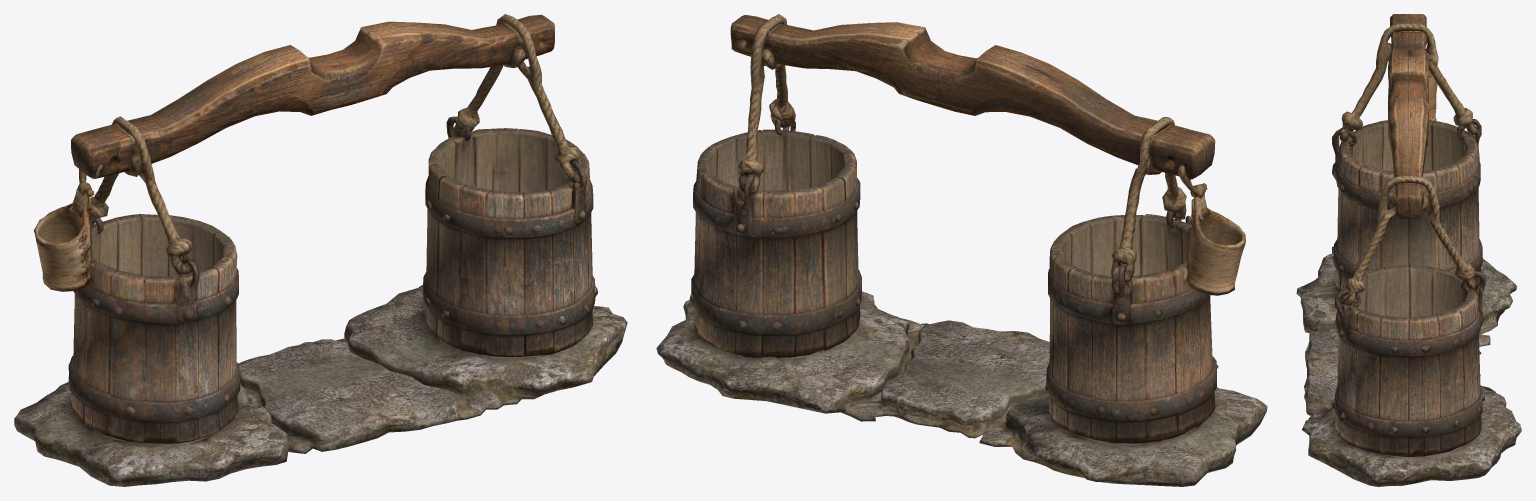
Rendered from cw_water_yoke.glb.
3 views of the same model, side by side, from view 1: azimuth 30°, elevation 25°; view 2: azimuth 150°, elevation 25°; view 3: azimuth 270°, elevation 25° (orthographic). The views are drawn at different scales.
Parts seen in each view (by area): view 1: cw_water_yoke; view 2: cw_water_yoke; view 3: cw_water_yoke.
Boxes of the visible parts, <box> form: cw_water_yoke: <box>14,14,627,486</box>; cw_water_yoke: <box>656,14,1267,486</box>; cw_water_yoke: <box>1296,14,1521,486</box>.
Size of the model in its own units: 1.5 by 0.8894 by 0.6135.
Materials: 1 (1 with a texture image).
